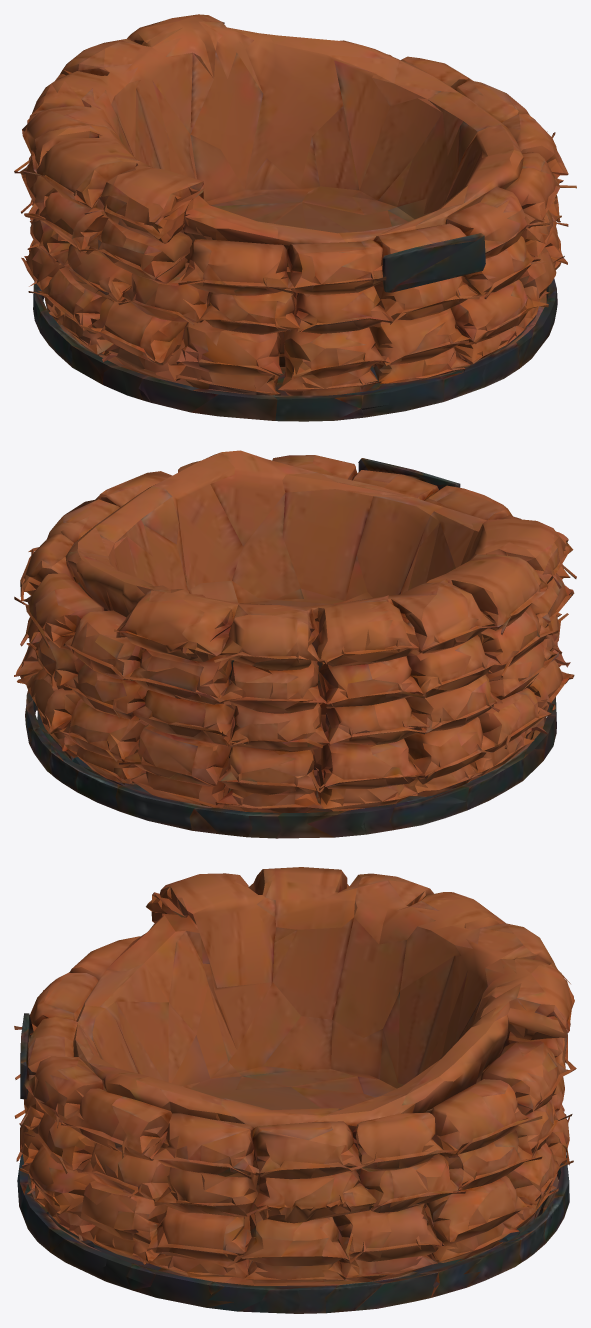
The model's file is mx_wz_sandbags.glb.
The picture shows the model from 3 angles, top to bottom: view 1: azimuth 30°, elevation 25°; view 2: azimuth 150°, elevation 25°; view 3: azimuth 270°, elevation 25°; orthographic projection. The views are drawn at different scales.
Size of the model in its own units: 1.92 by 0.8032 by 1.85.
1 material, 1 textured.
